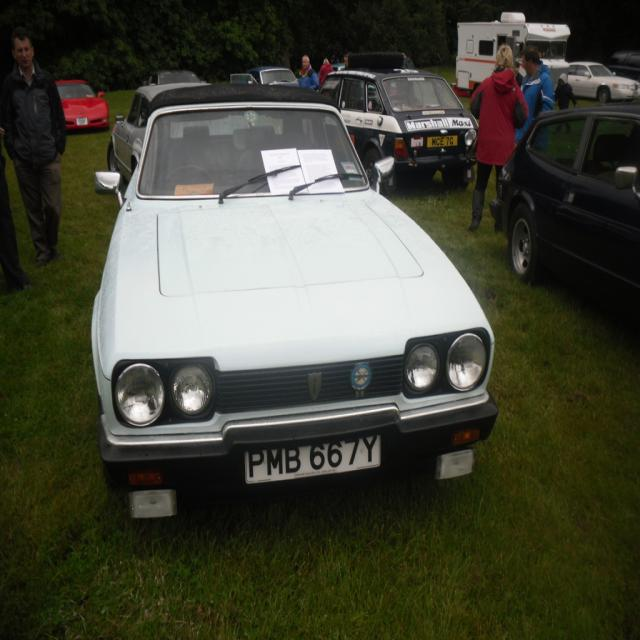car: (93, 102, 500, 518)
